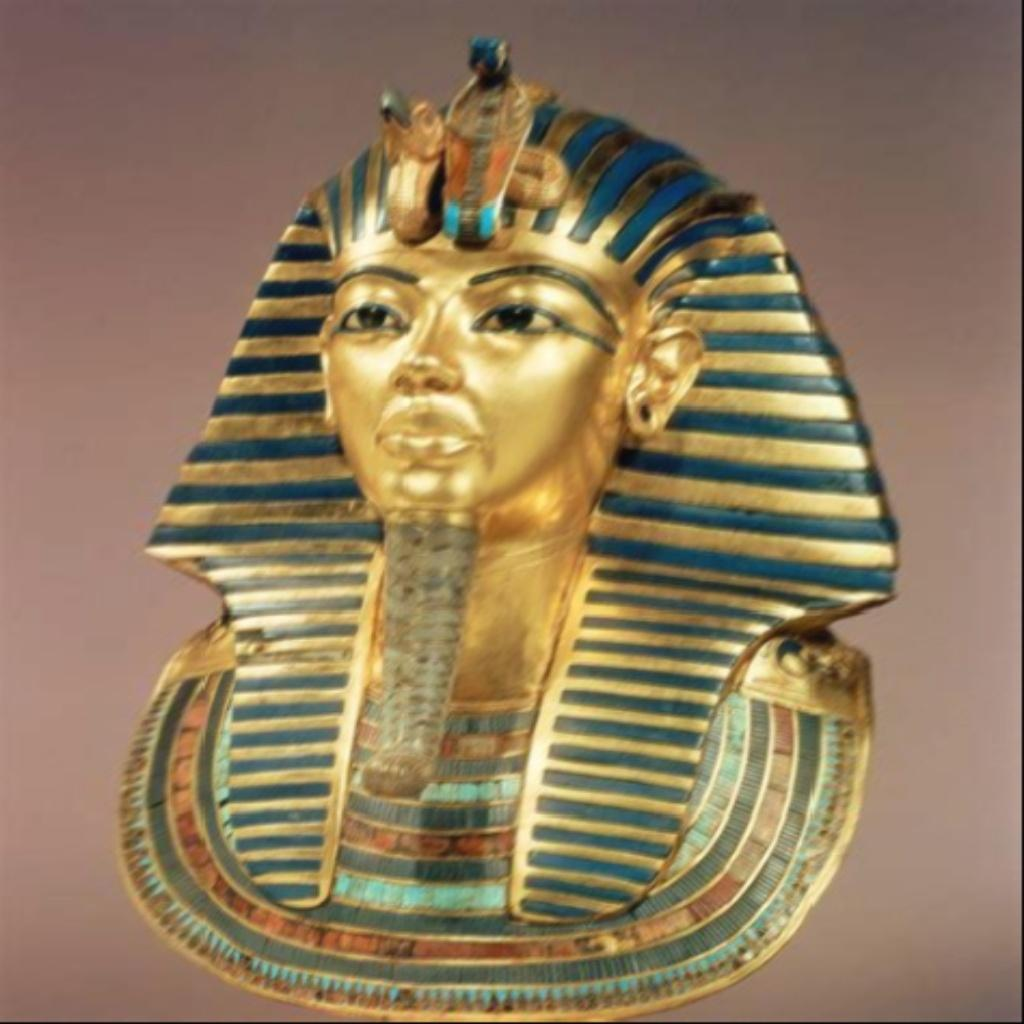Mask of Tutankhamun: (116, 36, 908, 1020)
